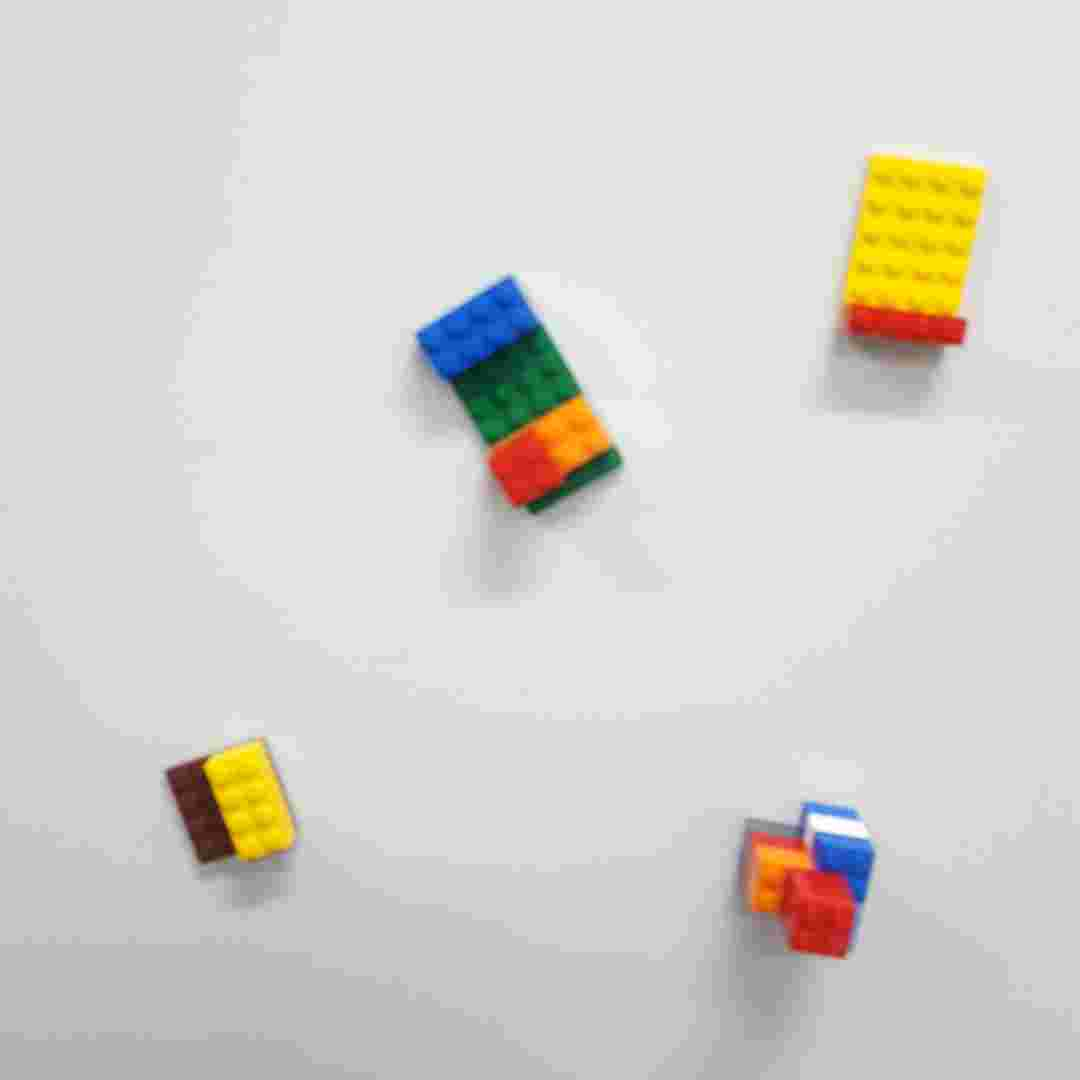LEGO: (416, 273, 627, 518), (835, 145, 987, 353), (732, 801, 877, 958), (164, 728, 305, 868)
